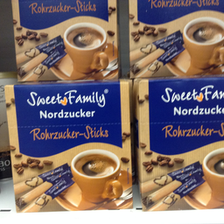tomato_sauce: (5, 79, 136, 214), (134, 76, 224, 212), (11, 1, 119, 79), (128, 1, 224, 80)
